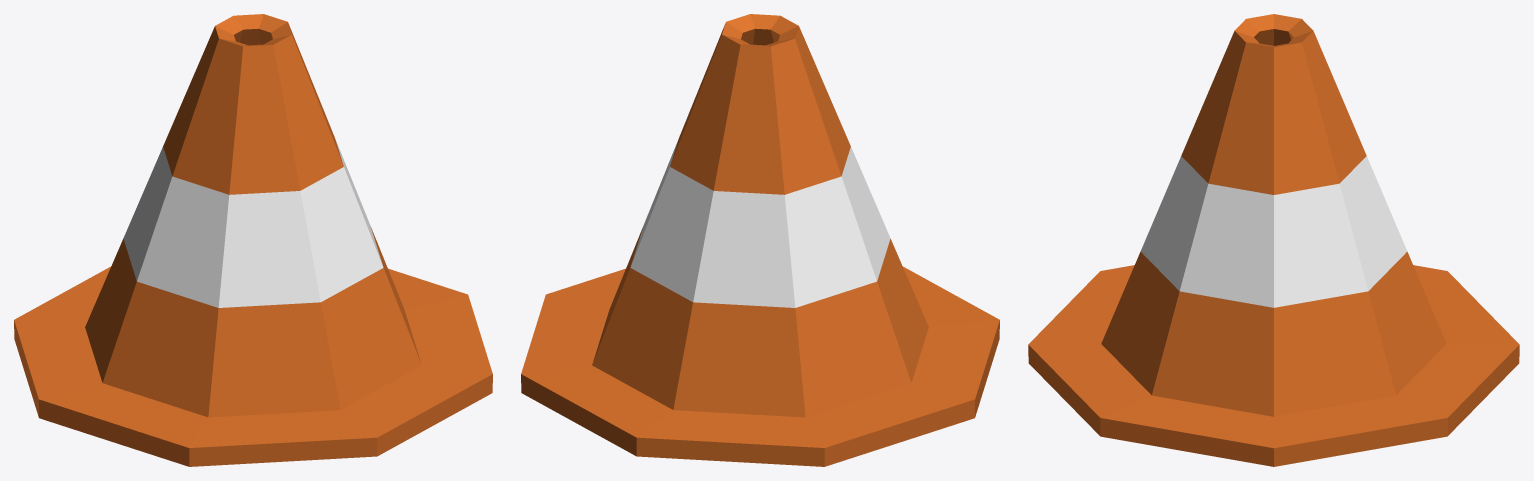
3 renders of one model, left to right at view 1: azimuth 30°, elevation 25°; view 2: azimuth 150°, elevation 25°; view 3: azimuth 270°, elevation 25°, orthographic.
Visible parts, largest first — view 1: cone.simpleUV; view 2: cone.simpleUV; view 3: cone.simpleUV.
Part boxes in pixels (<box>): cone.simpleUV: <box>14,14,492,466</box>; cone.simpleUV: <box>521,14,999,466</box>; cone.simpleUV: <box>1028,14,1519,466</box>.
Size of the model in its own units: 193 by 144 by 193.
